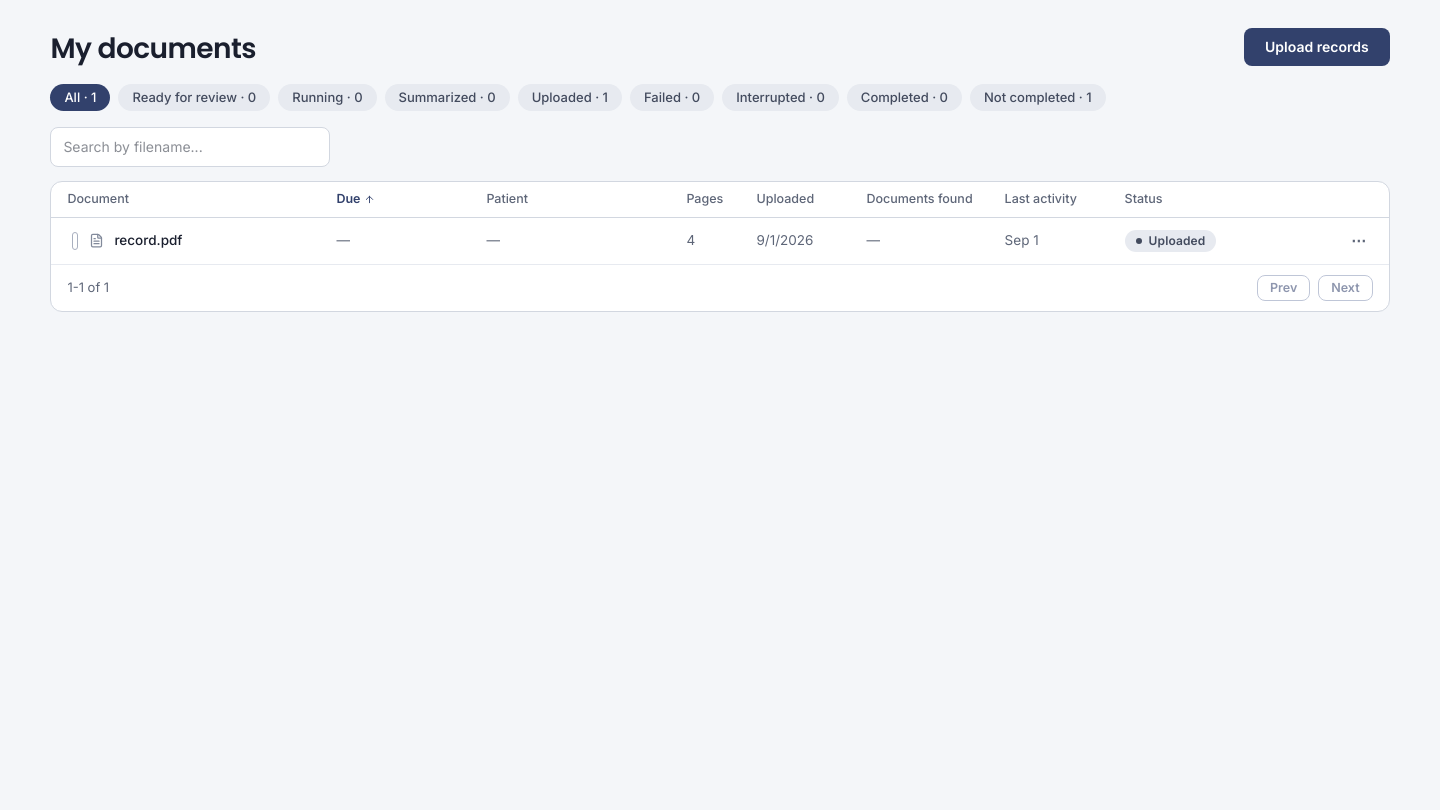
Test: DocumentsView upload (one button, the office's answer, 2026-11-26) › has one upload button, which opens the upload form
Step 1. Click the button "Upload records" → click(1317, 47), box [1244,28,1390,66]
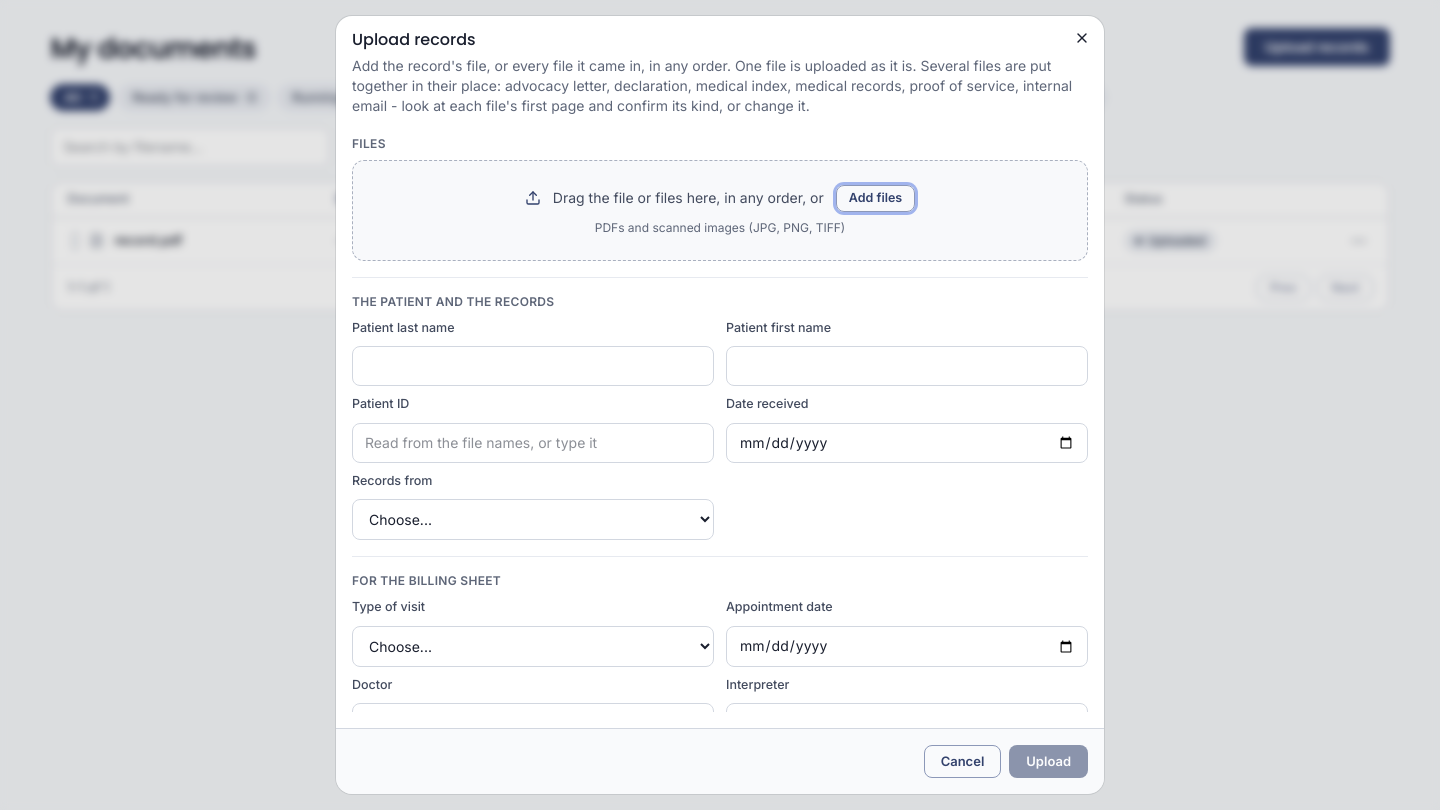
Now the heading "Upload records" is shown, box [352,28,476,51]
